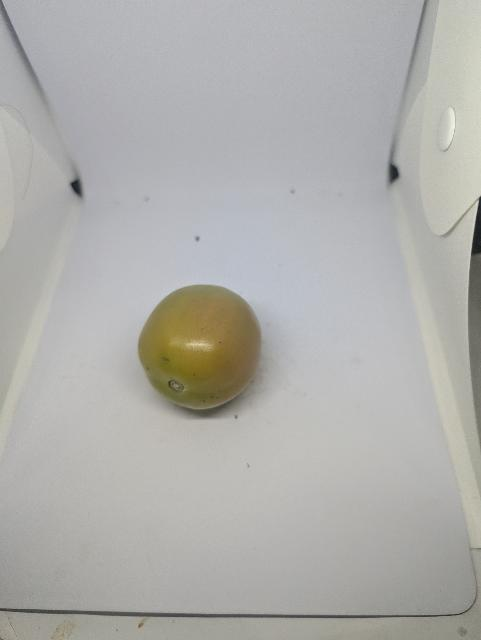breaker: (135, 281, 266, 414)
